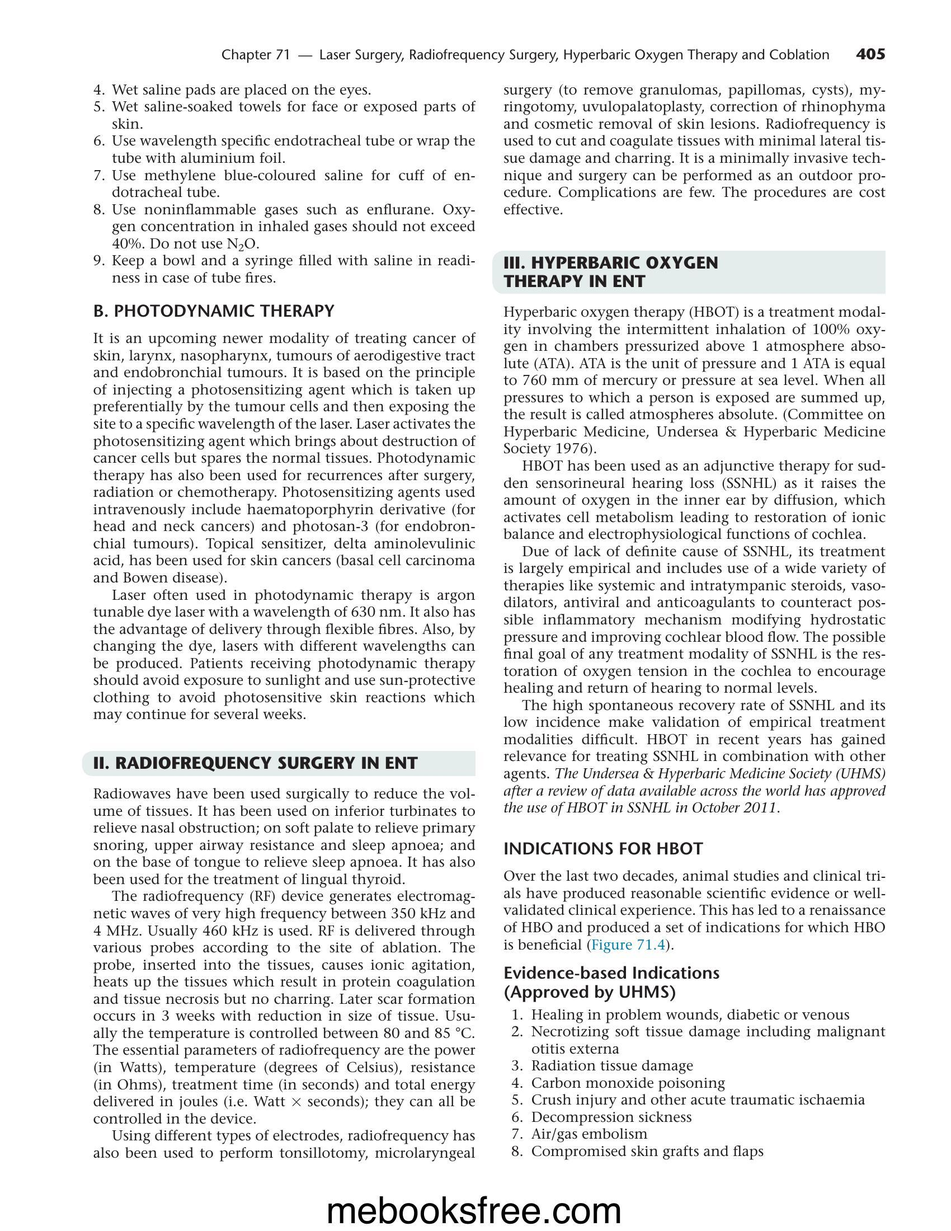header: (220, 47, 829, 64)
list: (91, 81, 477, 286), (510, 1007, 888, 1161)
section-heading: (501, 254, 719, 289), (91, 754, 419, 771)
sub-section-heading: (502, 964, 721, 1003), (92, 302, 336, 319), (502, 841, 705, 855)
text: (502, 305, 887, 817), (91, 330, 475, 725), (91, 786, 477, 1163), (502, 82, 886, 217), (502, 869, 887, 954)
